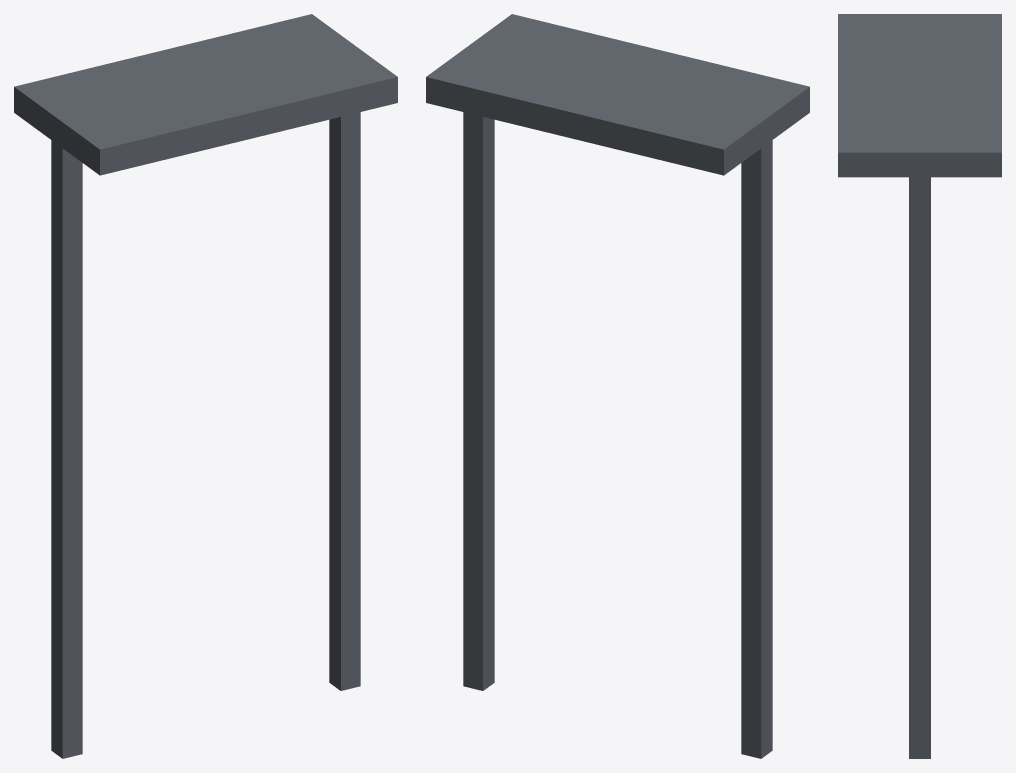
The model's file is ENV_SlingRack.fbx.
3 views of the same model, side by side, from view 1: azimuth 30°, elevation 25°; view 2: azimuth 150°, elevation 25°; view 3: azimuth 270°, elevation 25° (orthographic). The views are drawn at different scales.
Visible parts, largest first — view 1: ENV_SlingRack, Leg.006, Leg.007; view 2: ENV_SlingRack, Leg.006, Leg.007; view 3: ENV_SlingRack, Leg.007.
Boxes of the visible parts, x1=… form: ENV_SlingRack: x1=14, y1=14, x2=397, y2=175; Leg.006: x1=51, y1=140, x2=82, y2=758; Leg.007: x1=329, y1=112, x2=360, y2=690; ENV_SlingRack: x1=426, y1=14, x2=809, y2=175; Leg.006: x1=741, y1=140, x2=772, y2=758; Leg.007: x1=463, y1=112, x2=494, y2=690; ENV_SlingRack: x1=838, y1=14, x2=1001, y2=177; Leg.007: x1=909, y1=165, x2=930, y2=758.
Size of the model in its own units: 0.6 by 1.23 by 0.3.
1 material, 1 textured.
